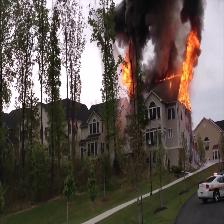fire: (180, 30, 202, 106)
smoke: (125, 0, 176, 75), (182, 1, 206, 27)
